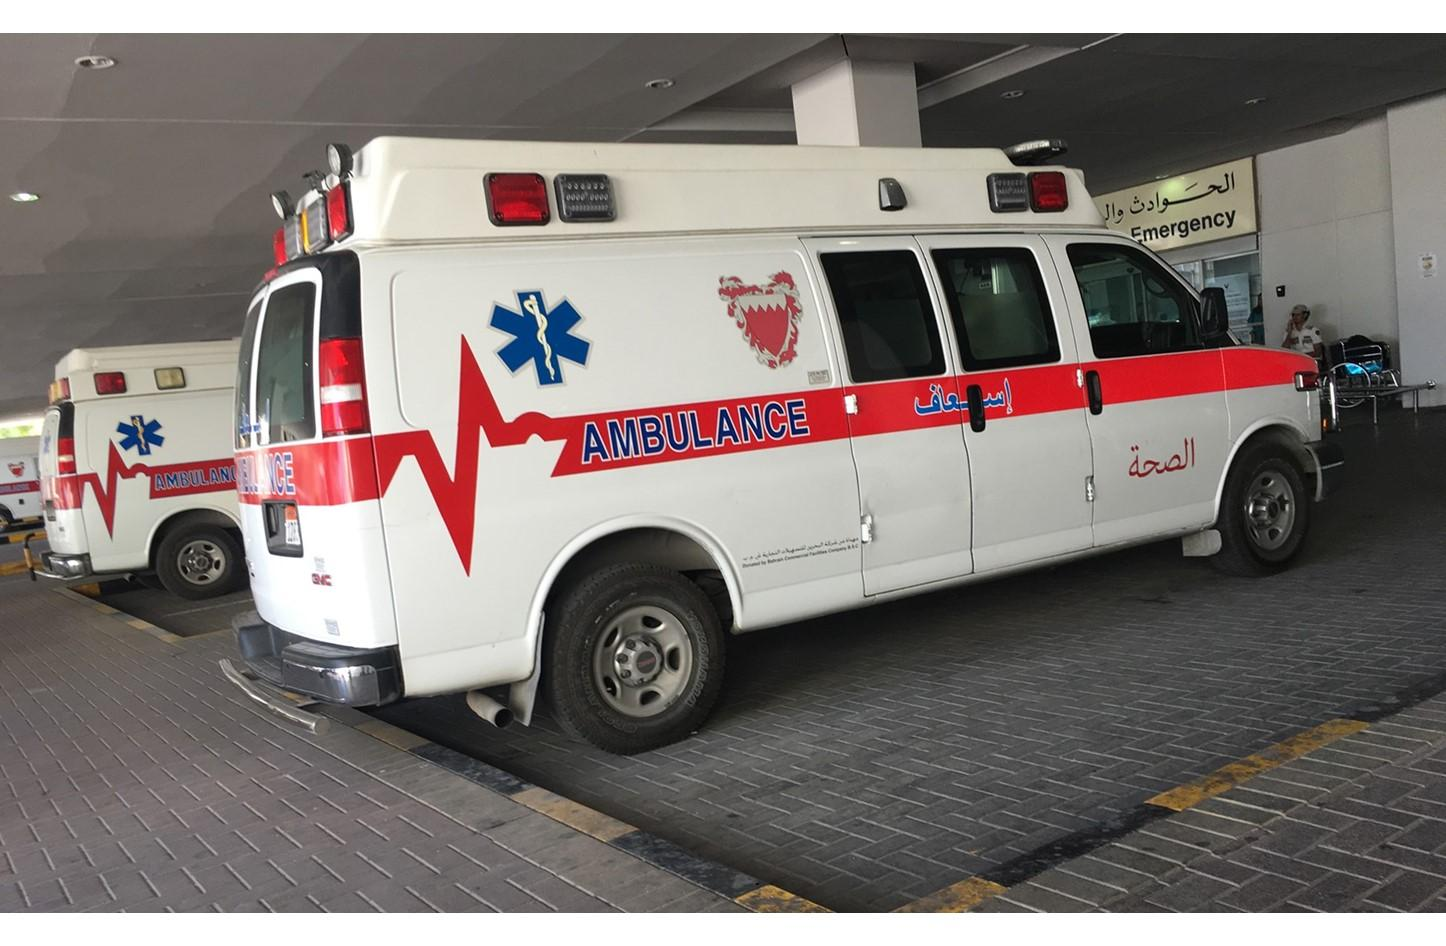ambulance_off: (221, 134, 1349, 753), (38, 341, 250, 597)
